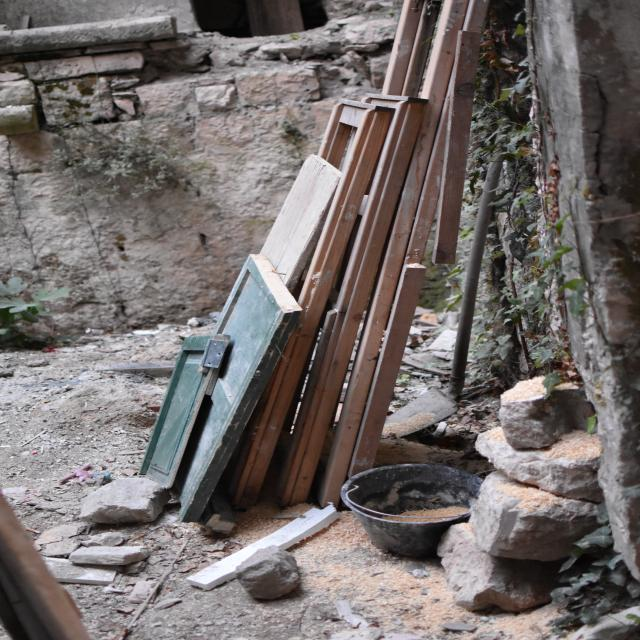entulho: (160, 250, 318, 527), (234, 144, 362, 465), (338, 94, 434, 289), (340, 284, 424, 483), (341, 459, 493, 560), (245, 153, 352, 286), (137, 337, 222, 493), (431, 29, 483, 266), (420, 3, 477, 107), (383, 0, 434, 94), (316, 104, 362, 178)
